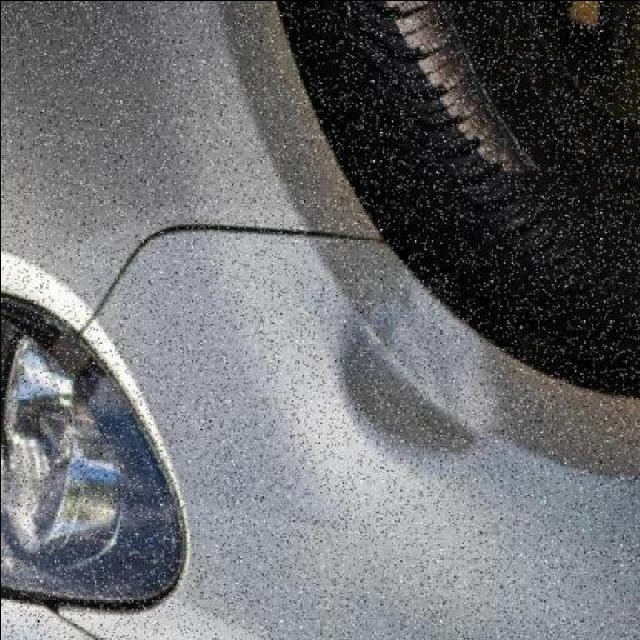fender-dent: (162, 226, 640, 640)
